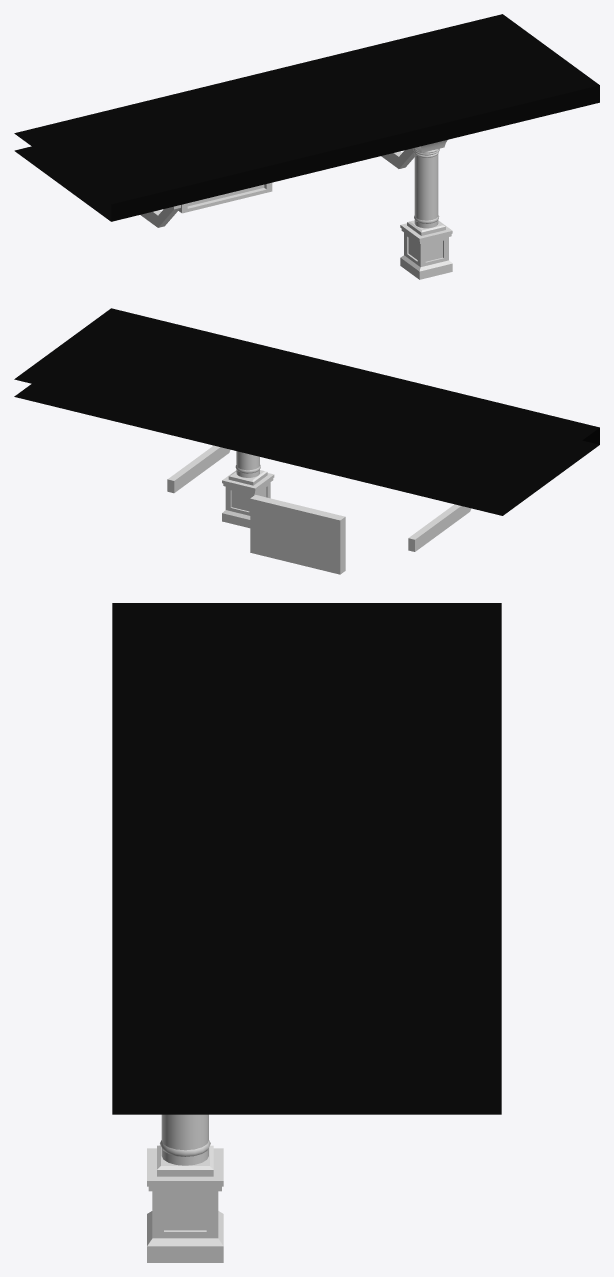
Rendered from balkon.fbx.
3 renders of one model, top to bottom at view 1: azimuth 30°, elevation 25°; view 2: azimuth 150°, elevation 25°; view 3: azimuth 270°, elevation 25°, orthographic. The views are drawn at different scales.
Visible parts, largest first — view 1: Plane.001, Cube.016, Cylinder, tabel, balki; view 2: Plane.001, tabel, balki, Cube.016, Cylinder; view 3: Plane.001, Cube.016, Cylinder.
Part boxes in pixels (left/top/right/bottom): Plane.001: left=14, top=14, right=599, bottom=221; Cube.016: left=400, top=220, right=452, bottom=279; Cylinder: left=413, top=148, right=439, bottom=228; tabel: left=178, top=182, right=272, bottom=213; balki: left=140, top=148, right=414, bottom=227; Plane.001: left=14, top=308, right=599, bottom=515; tabel: left=250, top=495, right=345, bottom=574; balki: left=167, top=445, right=471, bottom=551; Cube.016: left=222, top=470, right=274, bottom=528; Cylinder: left=235, top=451, right=260, bottom=477; Plane.001: left=112, top=603, right=501, bottom=1114; Cube.016: left=147, top=1145, right=223, bottom=1262; Cylinder: left=160, top=1114, right=210, bottom=1165.
Size of the model in its own units: 1085 by 337 by 374.
Materials: 1 (1 with a texture image).
